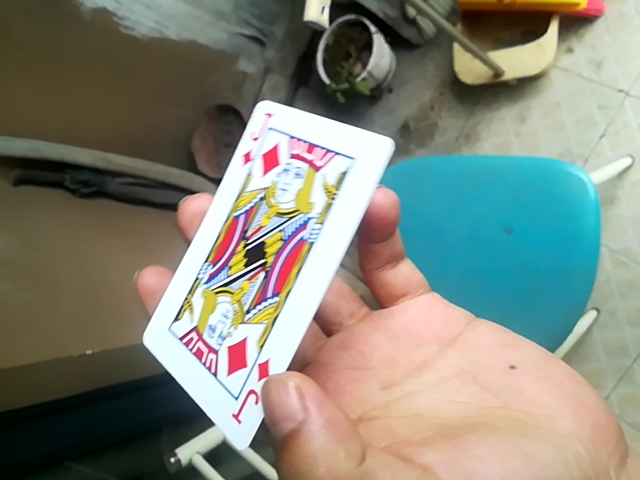fk j: (141, 98, 395, 458)
